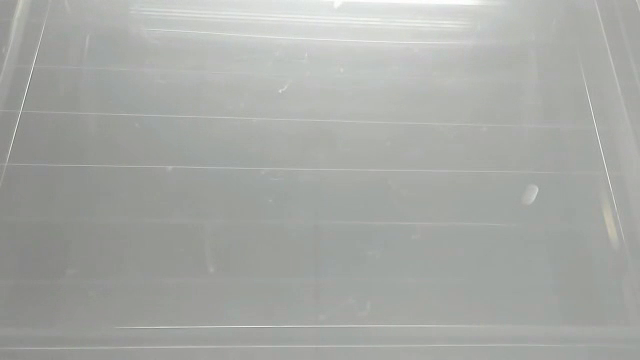alpha: (519, 181, 543, 209), (329, 1, 347, 12)
